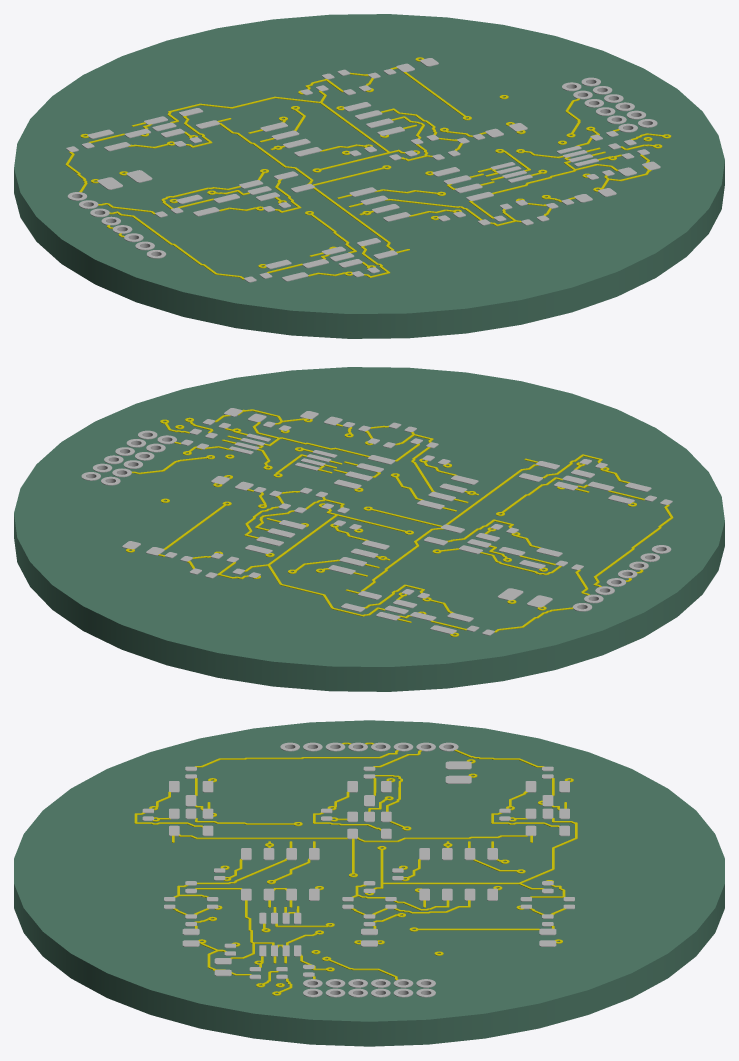
Rendered from AB1A_with_components.glb.
3 views of the same model, one above another, from view 1: azimuth 30°, elevation 25°; view 2: azimuth 150°, elevation 25°; view 3: azimuth 270°, elevation 25° (orthographic).
Parts seen in each view (by area): view 1: =>[0:1:1:5], =>[0:1:1:3], =>[0:1:1:2]; view 2: =>[0:1:1:5], =>[0:1:1:3], =>[0:1:1:2]; view 3: =>[0:1:1:5], =>[0:1:1:3], =>[0:1:1:2].
Boxes of the visible parts, left/top/right/bottom form: =>[0:1:1:5]: left=14, top=14, right=724, bottom=338; =>[0:1:1:3]: left=66, top=58, right=660, bottom=282; =>[0:1:1:2]: left=65, top=57, right=671, bottom=279; =>[0:1:1:5]: left=14, top=367, right=724, bottom=691; =>[0:1:1:3]: left=81, top=408, right=672, bottom=635; =>[0:1:1:2]: left=126, top=409, right=673, bottom=636; =>[0:1:1:5]: left=14, top=720, right=724, bottom=1046; =>[0:1:1:3]: left=142, top=742, right=574, bottom=997; =>[0:1:1:2]: left=134, top=742, right=577, bottom=995.
Bounding box in the file's own units: 0.04 × 0.00162 × 0.0399.
